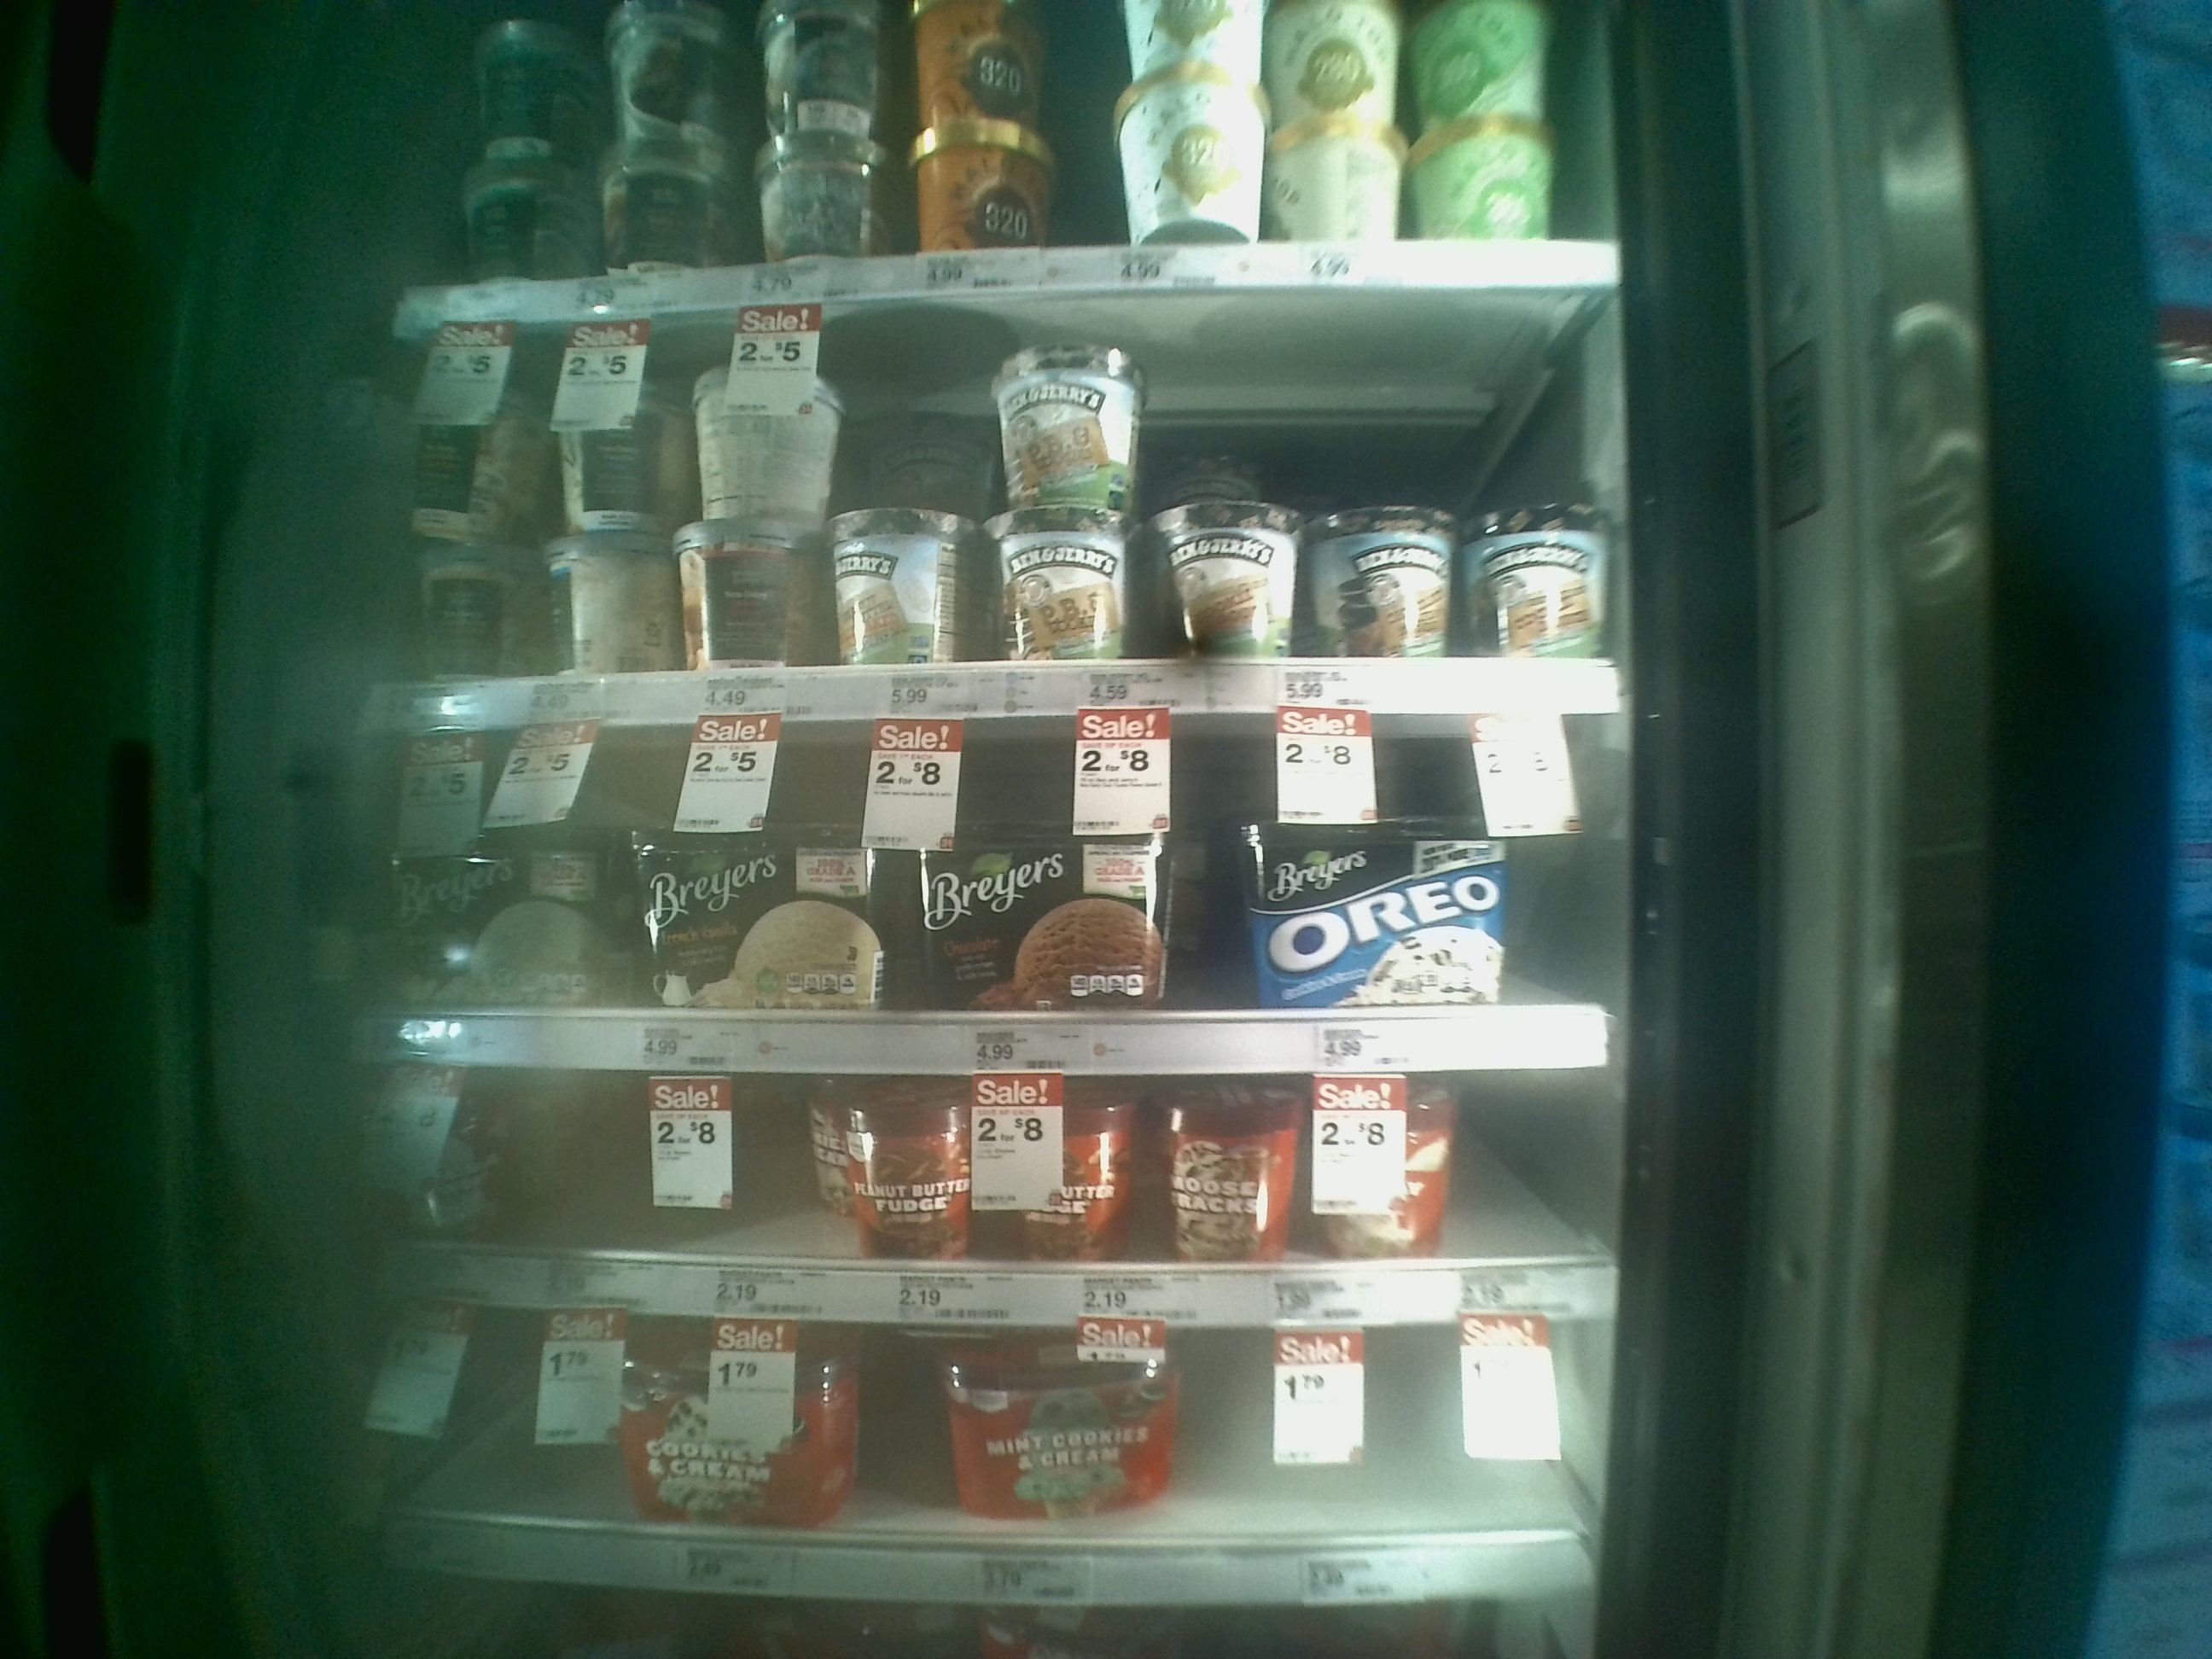ice-cream-shelf: (371, 312, 1635, 716), (361, 718, 1622, 1068), (343, 1324, 1611, 1612), (347, 1068, 1618, 1319)
